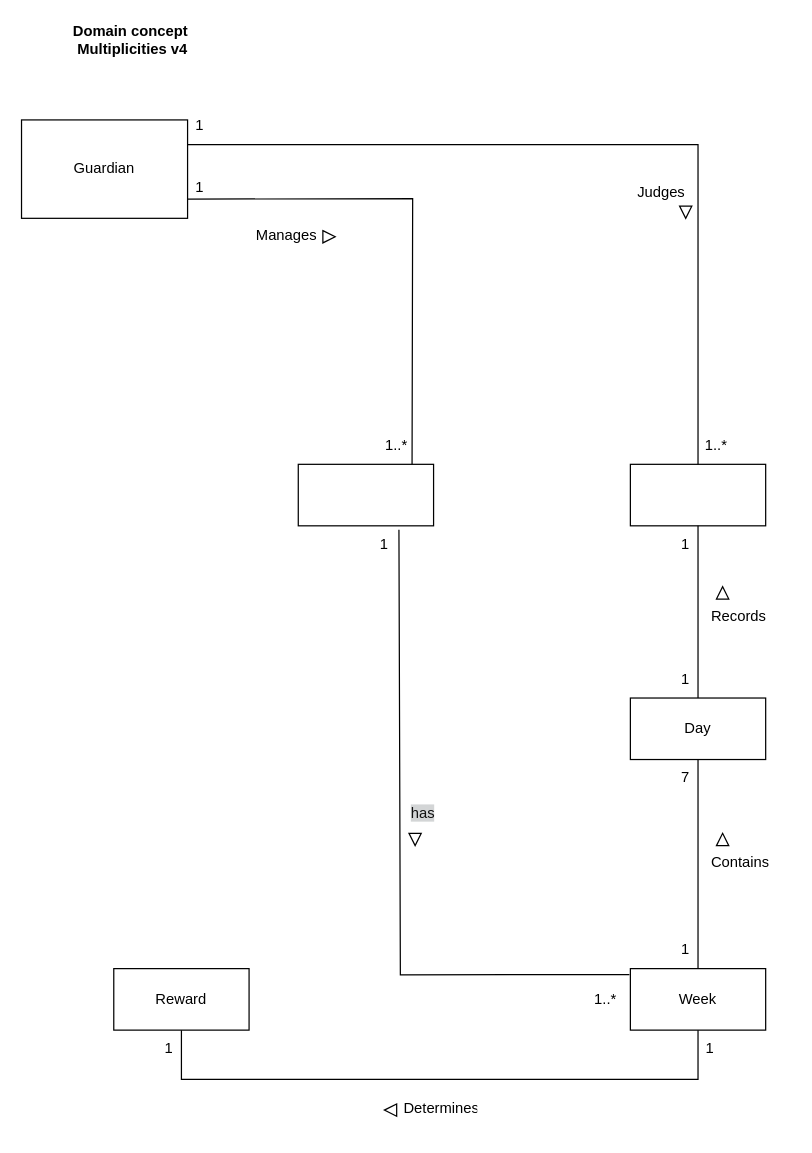
Image size: 812x1153. Some labels were removed from this diagram. The shapes that lost their labels are listed below. From the top down, each one's box as (x1, y1, x2, y2) in pixels, then its label:
(297, 463, 434, 526): Child
(629, 463, 766, 526): Behaviour
